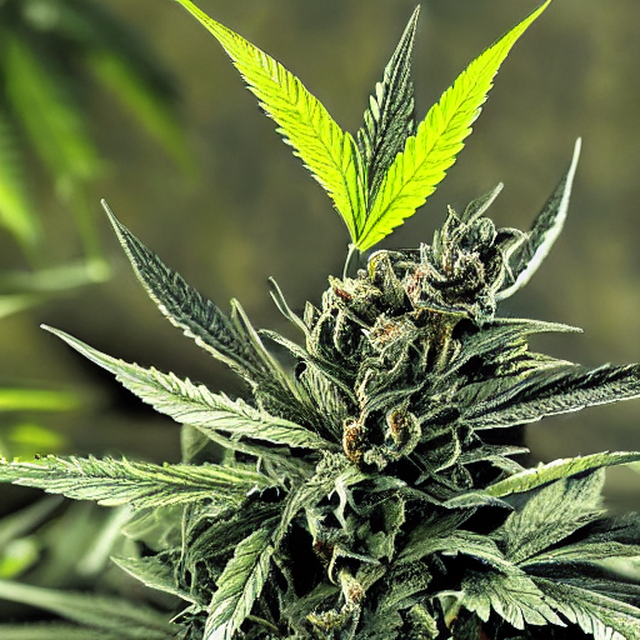Marijuana Joint: (77, 135, 605, 640)
